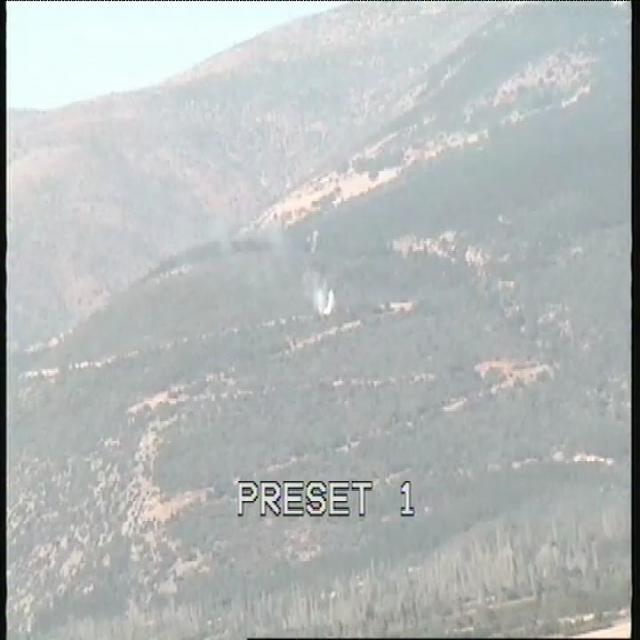smoke: (306, 275, 335, 318)
